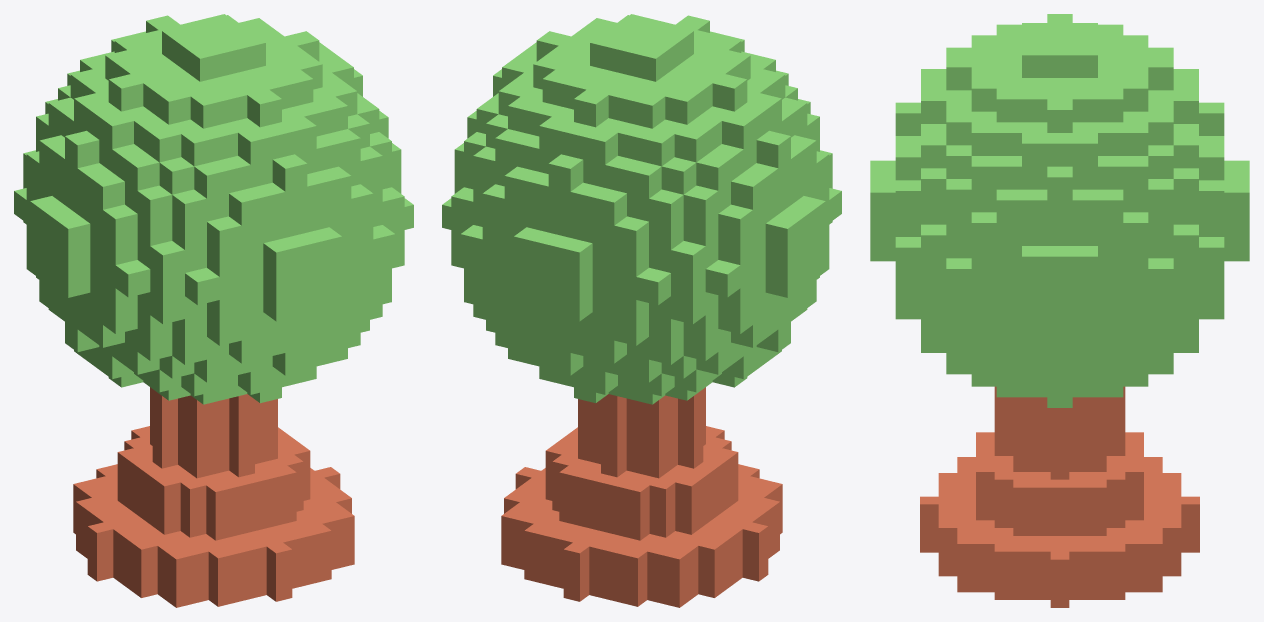
The model's file is tree.gltf.
3 views of the same model, side by side, from view 1: azimuth 30°, elevation 25°; view 2: azimuth 150°, elevation 25°; view 3: azimuth 270°, elevation 25° (orthographic).
Visible parts, largest first — view 1: Sphere, Cylinder; view 2: Sphere, Cylinder; view 3: Sphere, Cylinder.
Part boxes in pixels (x1,y1,x2,y2): Sphere: [14, 14, 413, 404]; Cylinder: [73, 387, 354, 607]; Sphere: [442, 14, 841, 404]; Cylinder: [501, 387, 782, 607]; Sphere: [870, 14, 1249, 407]; Cylinder: [920, 386, 1199, 607].
Bounding box in the file's own units: 2.07 × 3.07 × 2.07.
